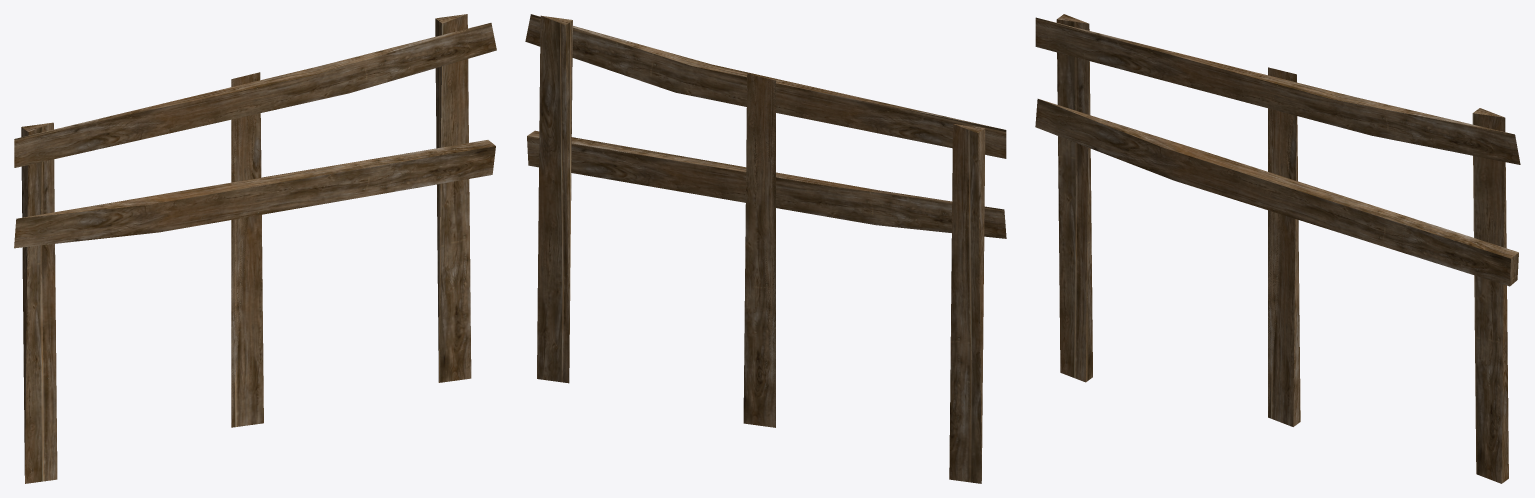
Rendered from fence.fbx.
The picture shows the model from 3 angles, left to right: view 1: azimuth 30°, elevation 25°; view 2: azimuth 150°, elevation 25°; view 3: azimuth 330°, elevation 25°; orthographic projection.
Parts seen in each view (by area): view 1: fence; view 2: fence; view 3: fence.
Part boxes in pixels (left/top/right/bottom): fence: left=14, top=14, right=496, bottom=483; fence: left=525, top=14, right=1006, bottom=483; fence: left=1035, top=14, right=1520, bottom=483.
Bounding box in the file's own units: 114 × 81.88 × 6.14.
1 material, 1 textured.
